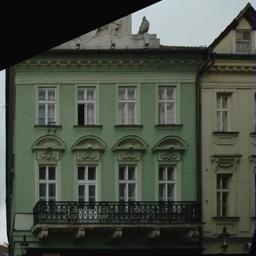building: (7, 11, 208, 256)
